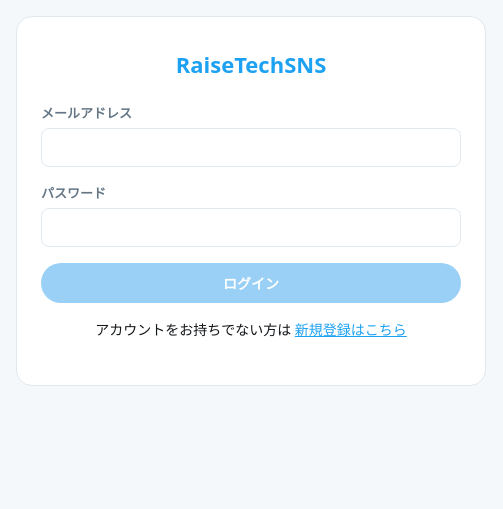
Test: App › ログイン失敗後に新規登録画面へ切り替えると、ログイン画面のエラーは引き継がれない
expect the heading "RaiseTechSNS" is shown: met, box [176,49,326,79]
In the field labelled "メールアドレス": [251, 148] box [41,128,461,167], type "taro@example.com"
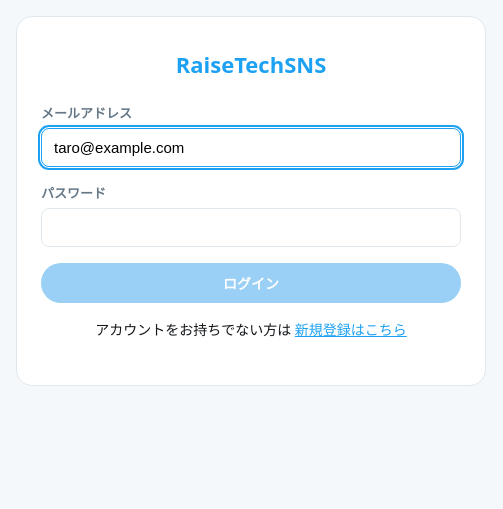
In the password field labelled "パスワード": [251, 228] box [41,208,461,247], type "wrong-password"
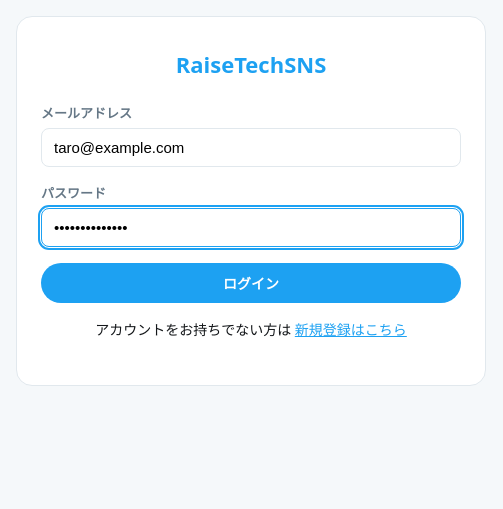
Click the button "ログイン": [251, 283] box [41,263,461,303]
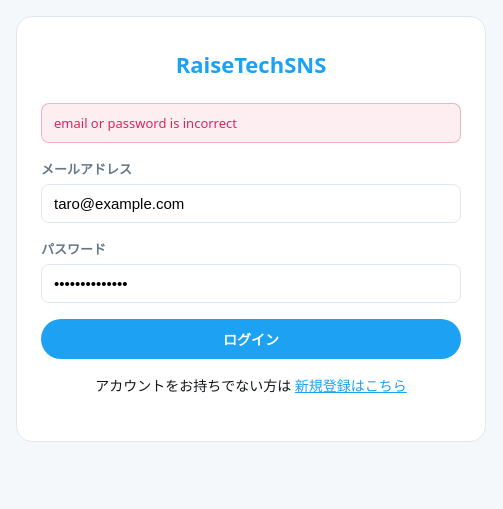
expect the text "email or password is incorrect" is shown: met, box [41,103,461,143]
Click the button "新規登録はこちら": [351, 385] box [295,375,407,395]
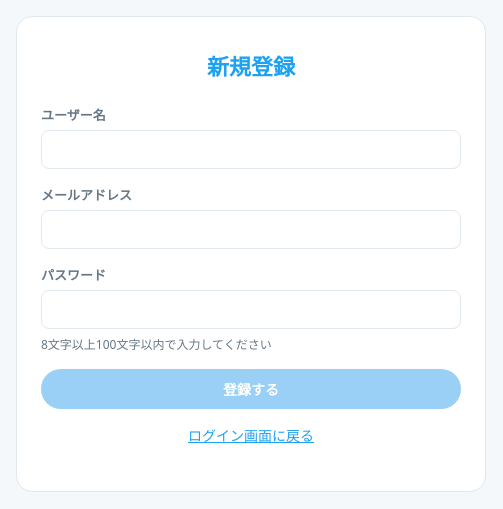
expect the heading "新規登録" is shown: met, box [207,51,295,81]
expect the text "email or password is incorrect" is gone: met
